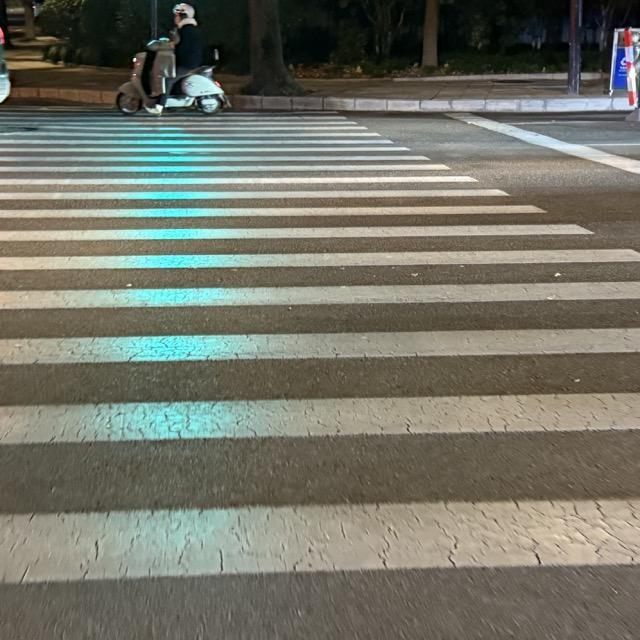curb: (230, 95, 631, 114), (9, 88, 116, 108)
